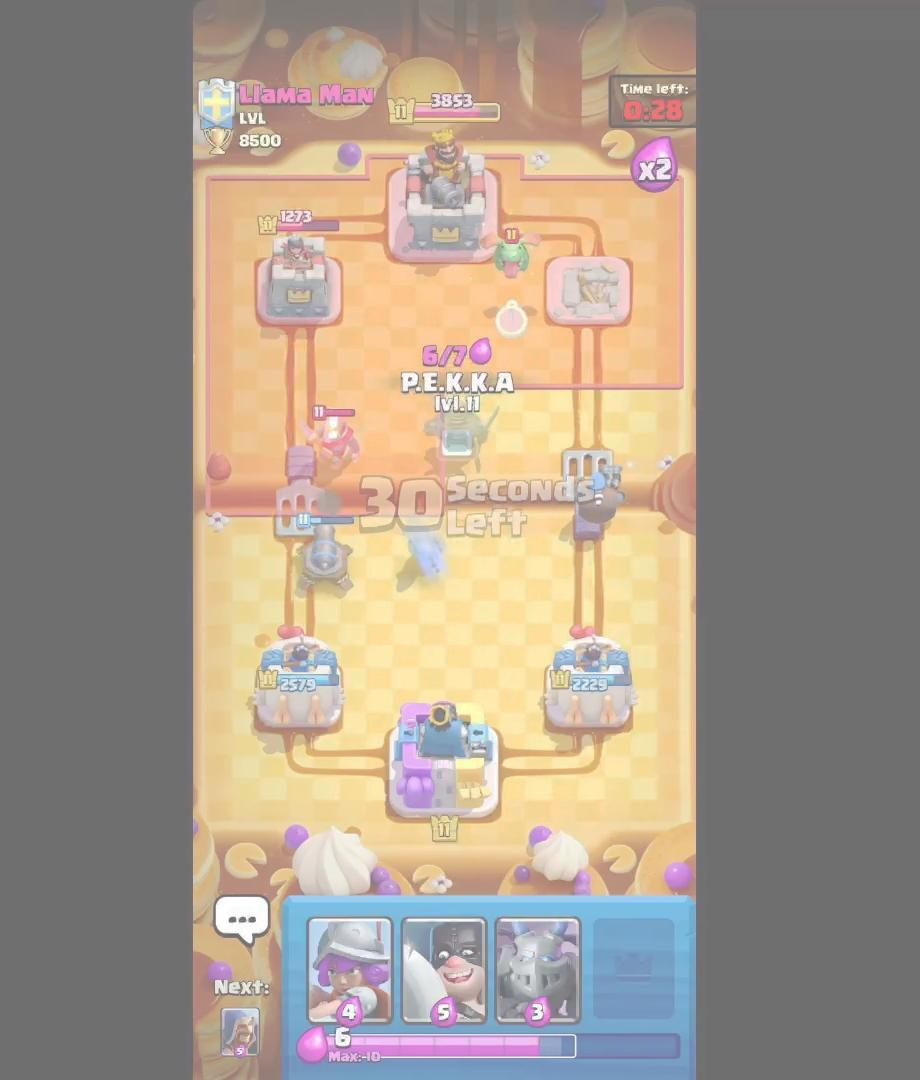Baby Dragon: (473, 216, 548, 282)
Knight: (293, 399, 371, 479)
